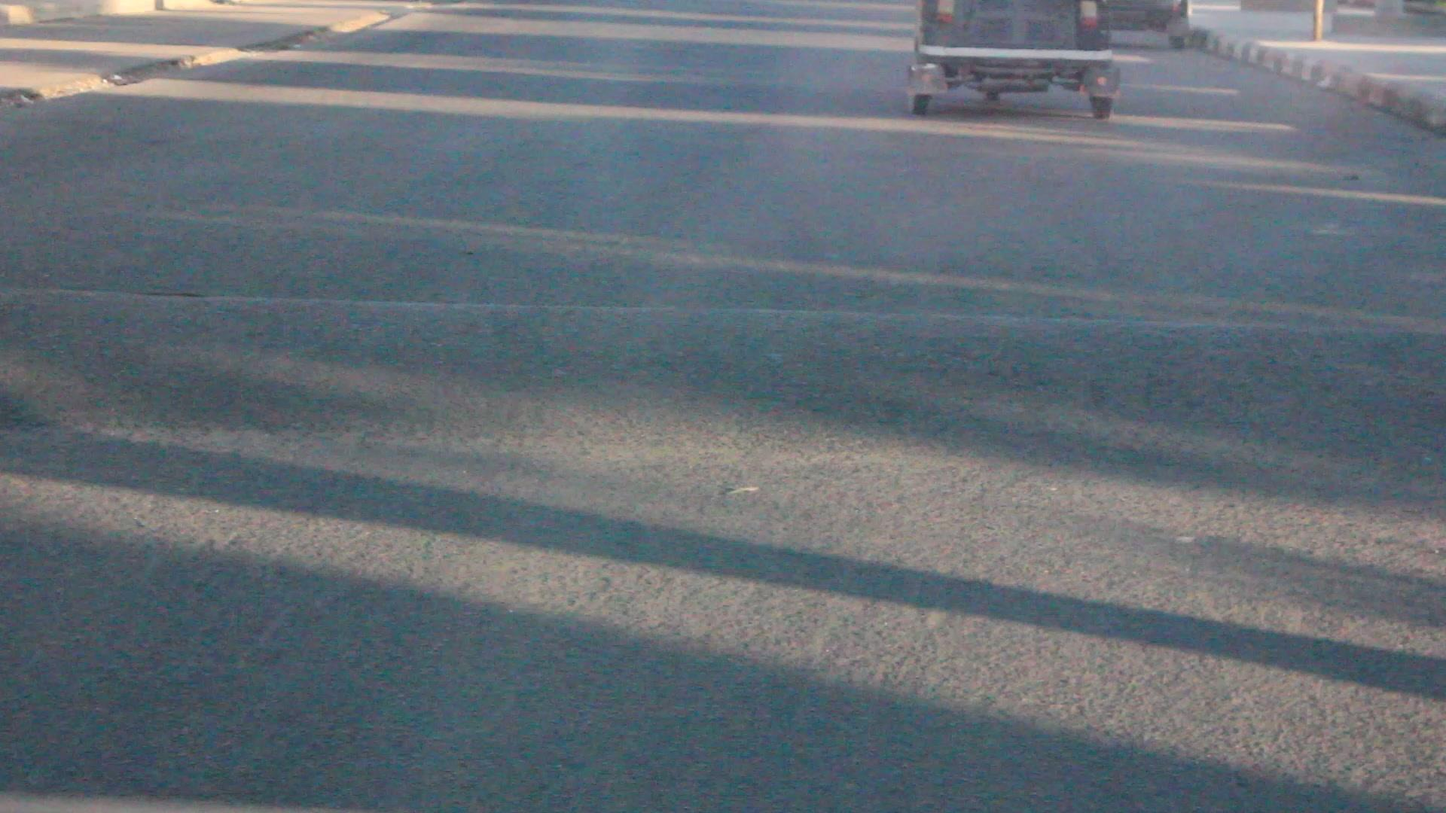Bump: (8, 280, 1446, 486)
